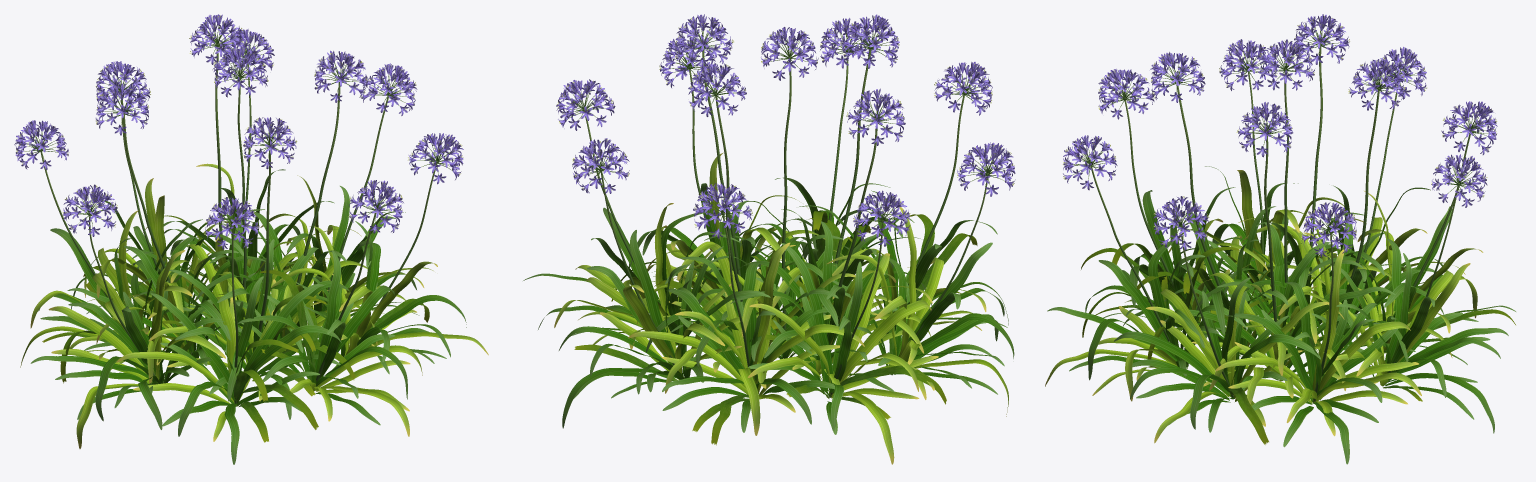
Rendered from Agapanthus_01.fbx.
3 renders of one model, left to right at view 1: azimuth 30°, elevation 25°; view 2: azimuth 150°, elevation 25°; view 3: azimuth 270°, elevation 25°, orthographic. The views are drawn at different scales.
Visible parts, largest first — view 1: Agapanthus_a__A001; view 2: Agapanthus_a__A001; view 3: Agapanthus_a__A001.
Part boxes in pixels (x1,y1,x2,y2): Agapanthus_a__A001: [14, 14, 488, 464]; Agapanthus_a__A001: [523, 14, 1015, 464]; Agapanthus_a__A001: [1045, 14, 1515, 464].
Size of the model in its own units: 139 by 109 by 135.
